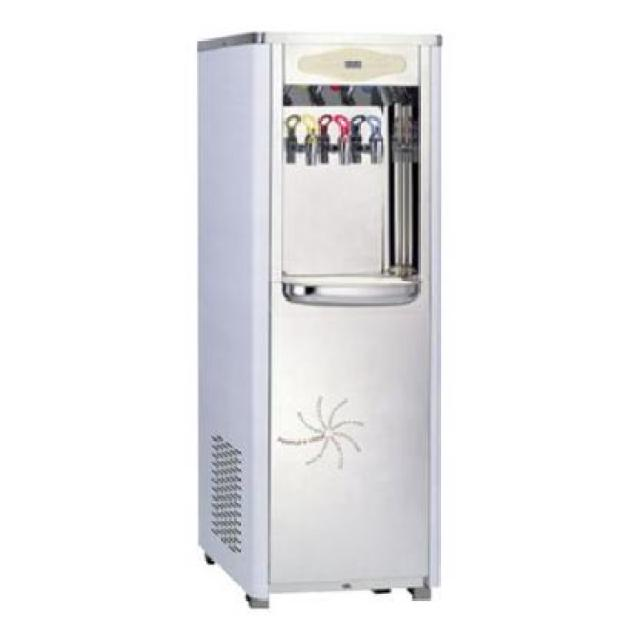cooler: (192, 28, 448, 618)
